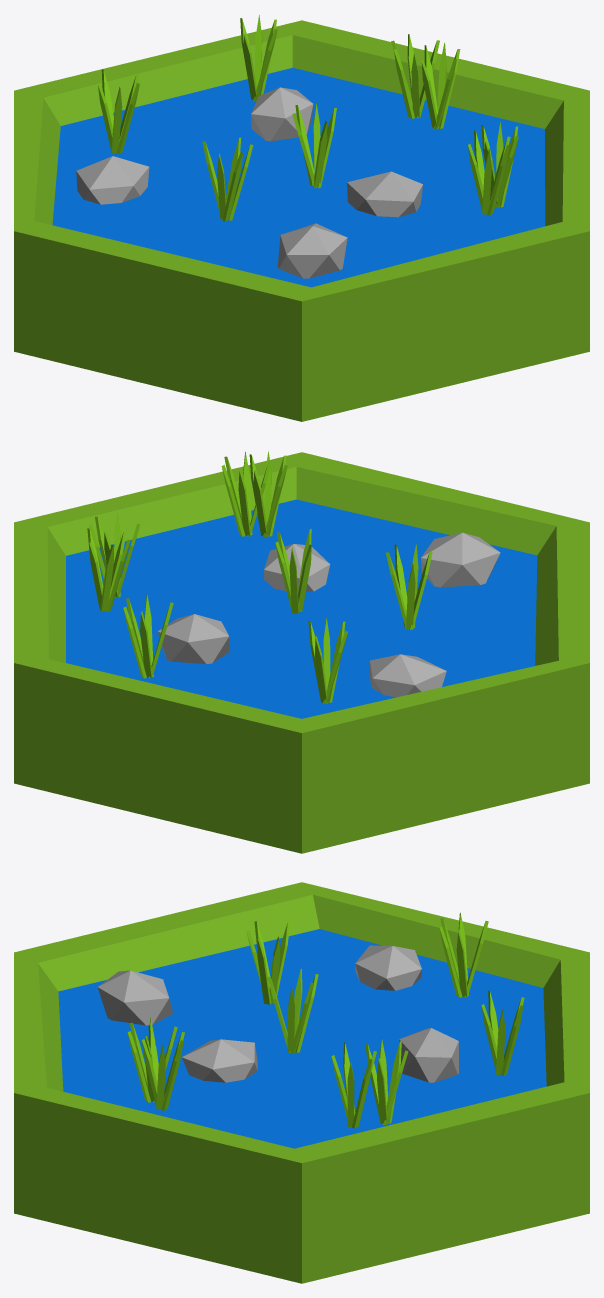
Rendered from Lago_Cerrado.fbx.
3 renders of one model, top to bottom at view 1: azimuth 30°, elevation 25°; view 2: azimuth 150°, elevation 25°; view 3: azimuth 270°, elevation 25°, orthographic.
Visible parts, largest first — view 1: Lago_Cerrado; view 2: Lago_Cerrado; view 3: Lago_Cerrado.
Boxes of the visible parts, box(x1,y1,x2,y2) form: Lago_Cerrado: box(14, 15, 589, 421); Lago_Cerrado: box(14, 451, 589, 853); Lago_Cerrado: box(14, 882, 589, 1283).
Size of the model in its own units: 200 by 56.6 by 173.
